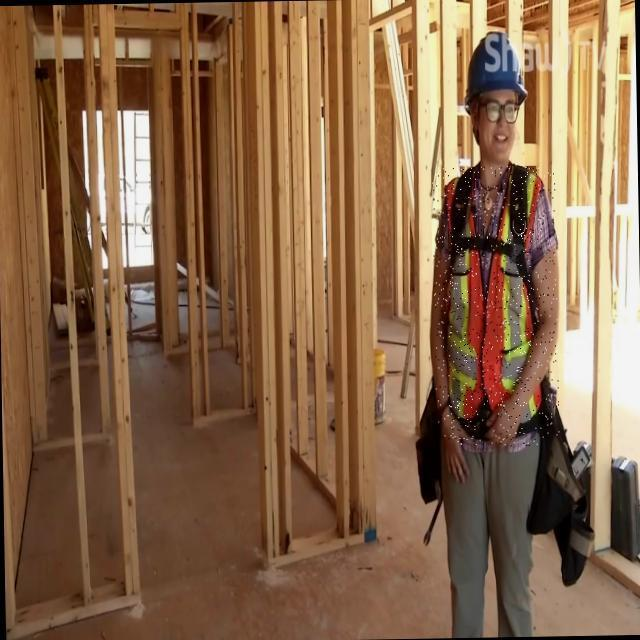helmet: (461, 23, 529, 117)
vest: (432, 166, 560, 448)
